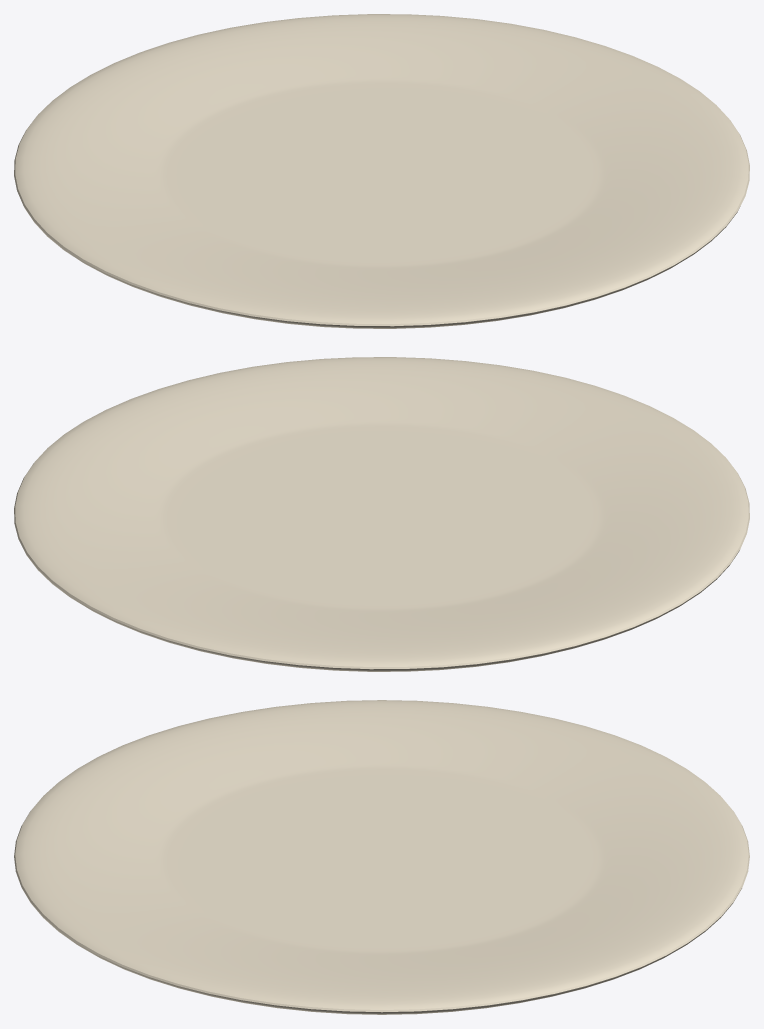
Rendered from plate.fbx.
3 renders of one model, top to bottom at view 1: azimuth 30°, elevation 25°; view 2: azimuth 150°, elevation 25°; view 3: azimuth 270°, elevation 25°, orthographic.
Parts seen in each view (by area): view 1: Cube; view 2: Cube; view 3: Cube.
Boxes of the visible parts, <box> form: Cube: <box>14,14,749,328</box>; Cube: <box>14,357,749,671</box>; Cube: <box>14,700,749,1014</box>.
Bounding box in the file's own units: 345 × 30.15 × 345.
